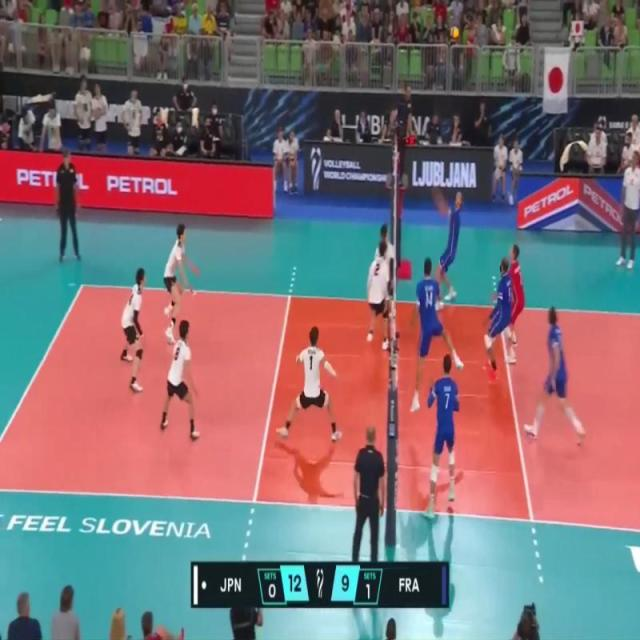volleyball: (450, 24, 460, 43)
